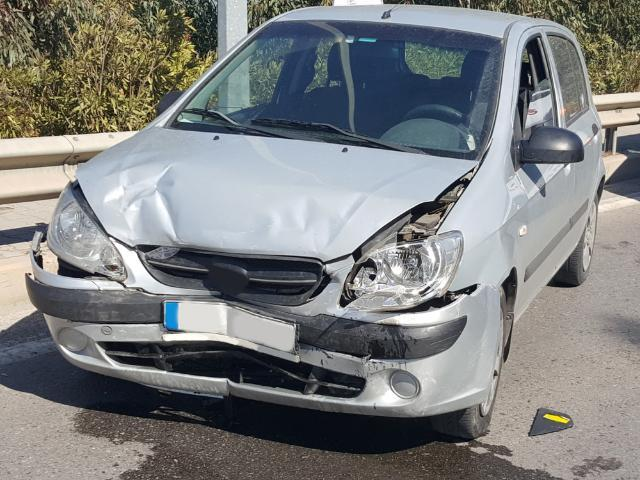dent: (104, 162, 349, 256)
dislocated part: (354, 159, 486, 257), (33, 227, 124, 282)
lamp broken: (344, 232, 464, 310), (45, 181, 126, 282)
